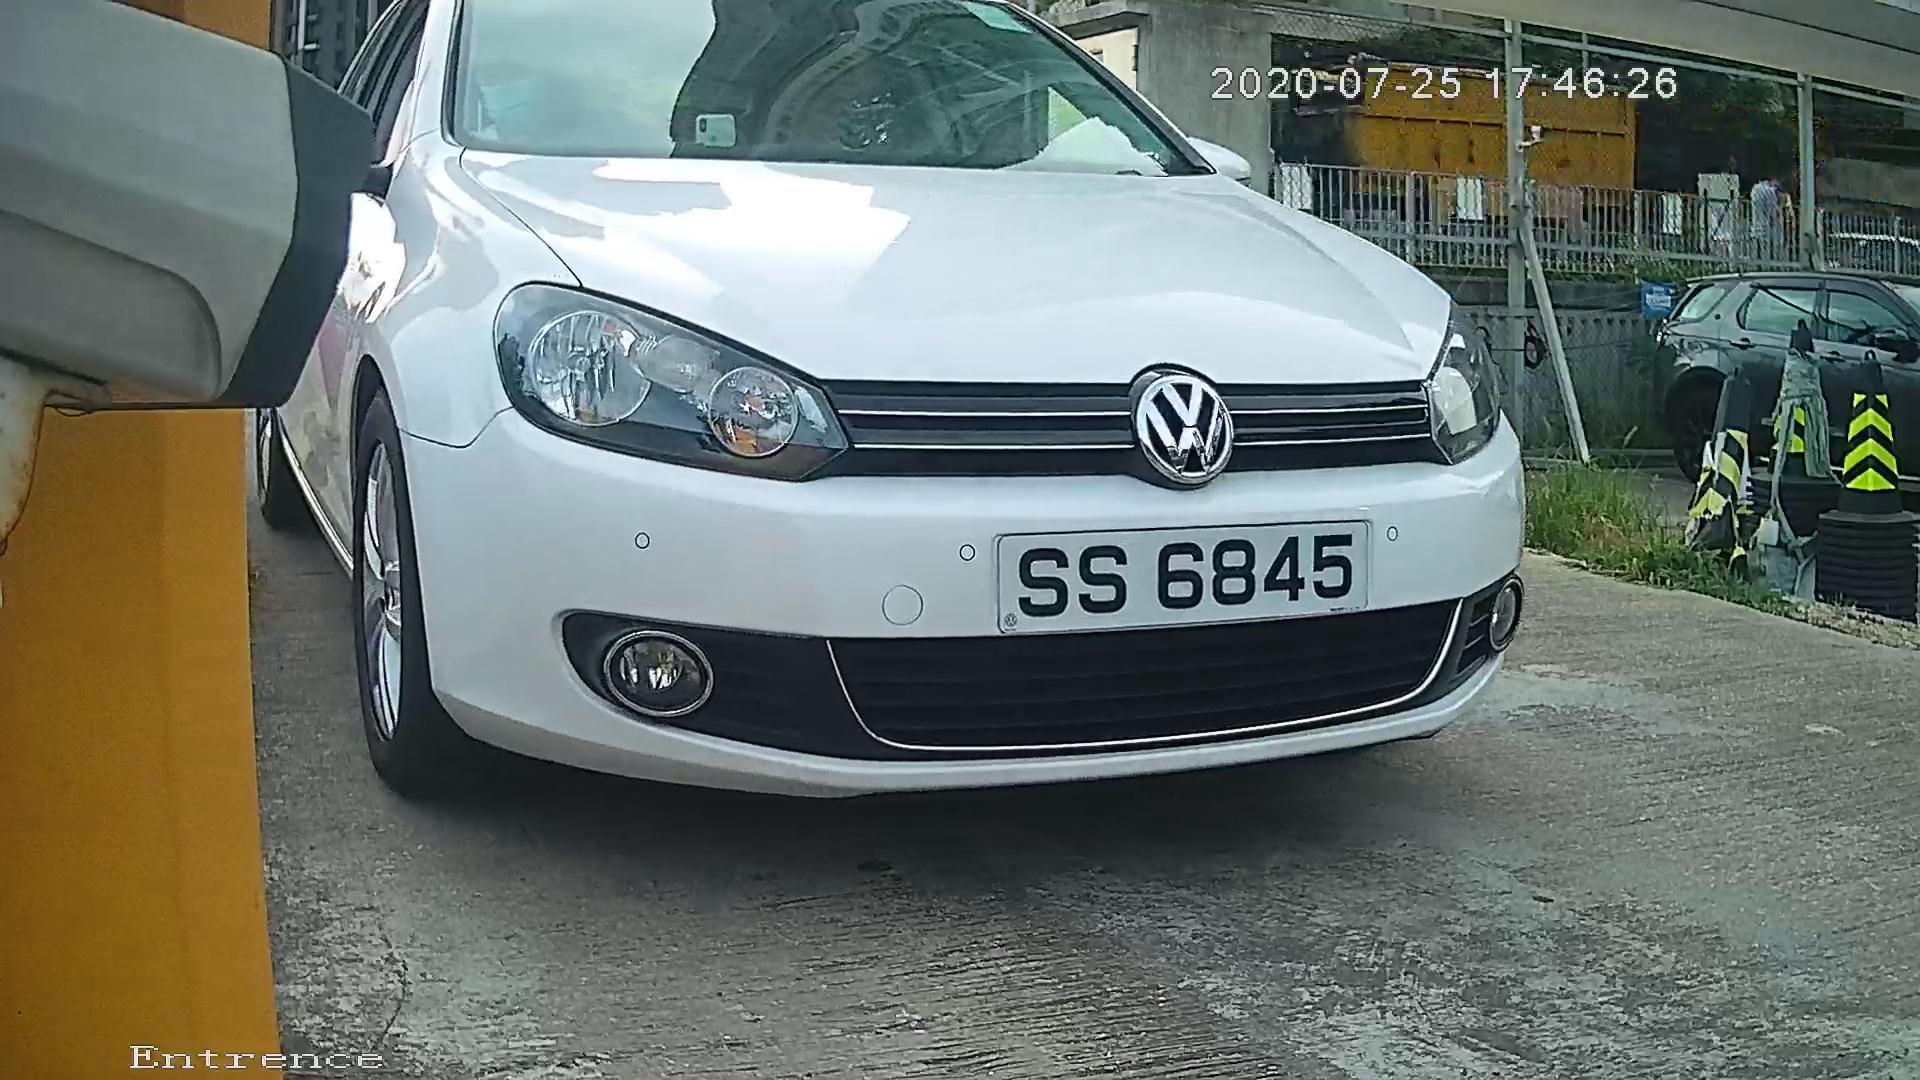License Plate: (969, 507, 1398, 637)
